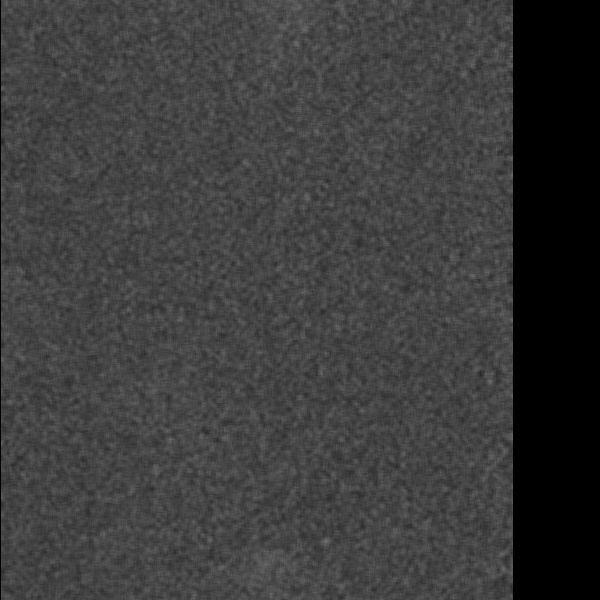spark: (255, 546, 274, 583)
